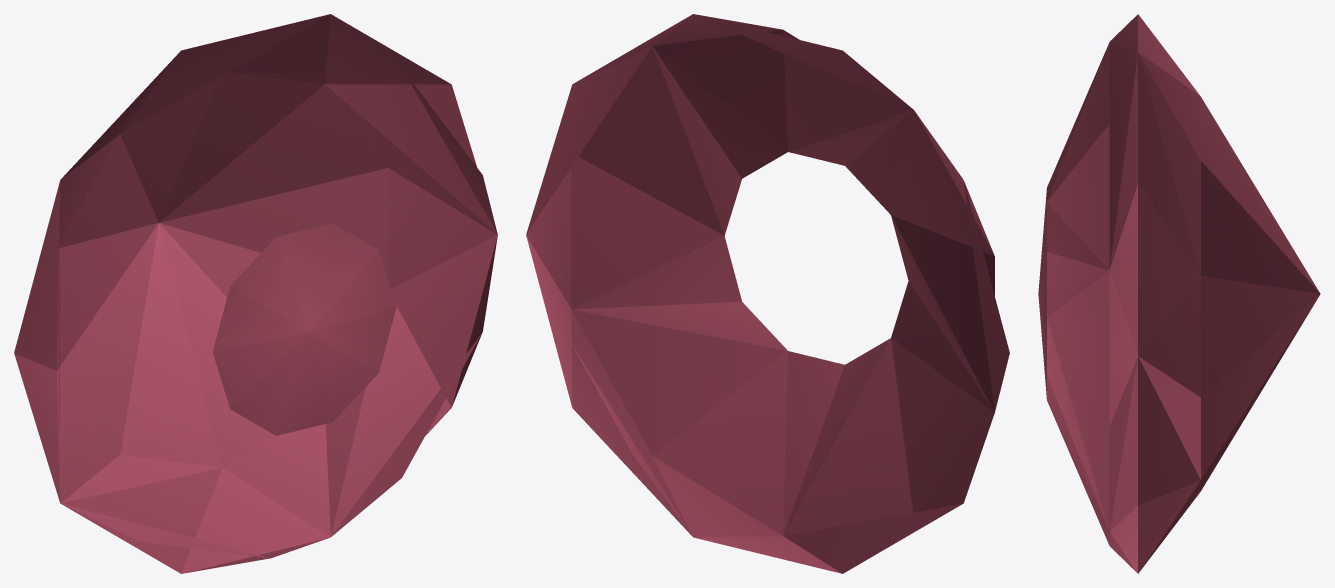
The model's file is ruby-demo.glb.
3 renders of one model, left to right at view 1: azimuth 30°, elevation 25°; view 2: azimuth 150°, elevation 25°; view 3: azimuth 270°, elevation 25°, orthographic. The views are drawn at different scales.
Visible parts, largest first — view 1: world; view 2: world; view 3: world.
Part boxes in pixels (x1,y1,x2,y2): world: [14, 14, 497, 573]; world: [526, 14, 1009, 573]; world: [1038, 14, 1320, 573].
Bounding box in the file's own units: 1.84 × 1.9 × 0.99.
